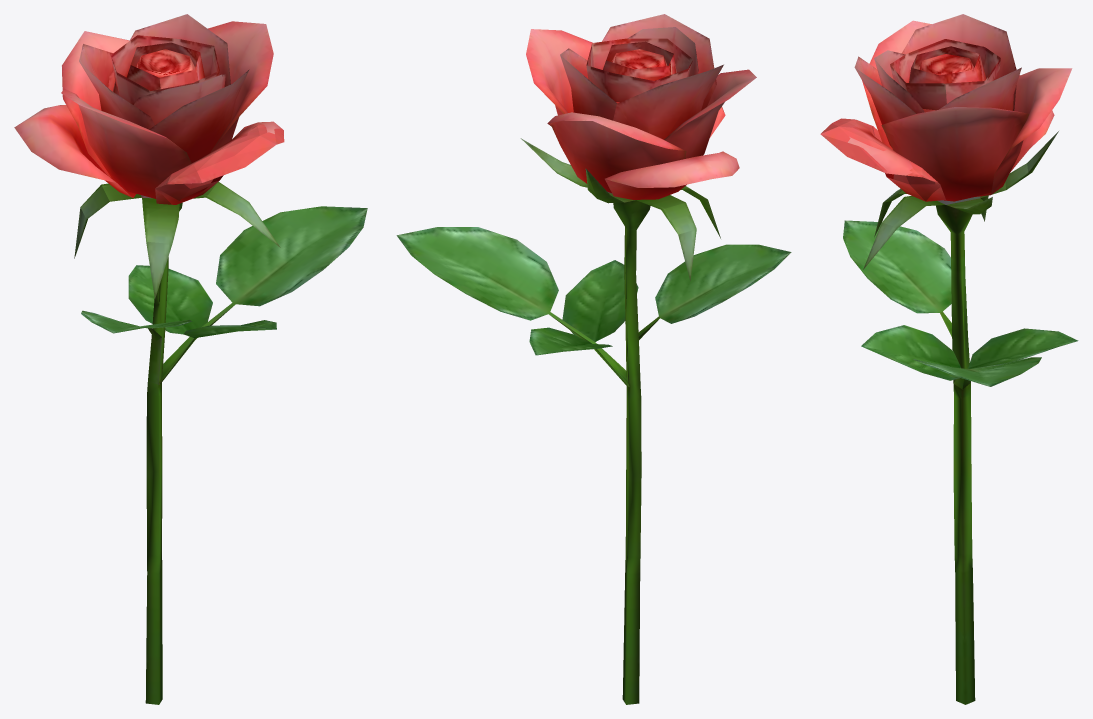
The model's file is rose_blossom.glb.
3 renders of one model, left to right at view 1: azimuth 30°, elevation 25°; view 2: azimuth 150°, elevation 25°; view 3: azimuth 270°, elevation 25°, orthographic.
Visible parts, largest first — view 1: Rosediss, Rosediss.001; view 2: Rosediss; view 3: Rosediss, Rosediss.001.
Part boxes in pixels (x1,y1,x2,y2): Rosediss: (14, 14, 367, 704); Rosediss.001: (155, 124, 284, 204); Rosediss: (396, 14, 791, 704); Rosediss: (843, 14, 1078, 704); Rosediss.001: (820, 118, 940, 201).
Size of the model in its own units: 0.9378 by 1.74 by 0.6278.
Materials: 1 (1 with a texture image).
